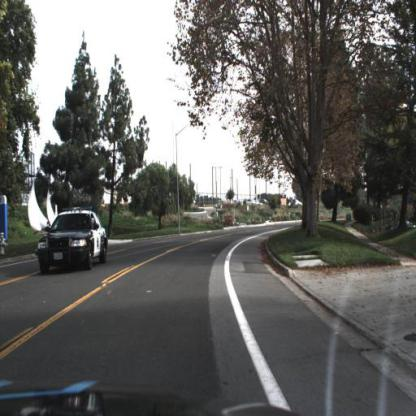car: (36, 207, 110, 275)
